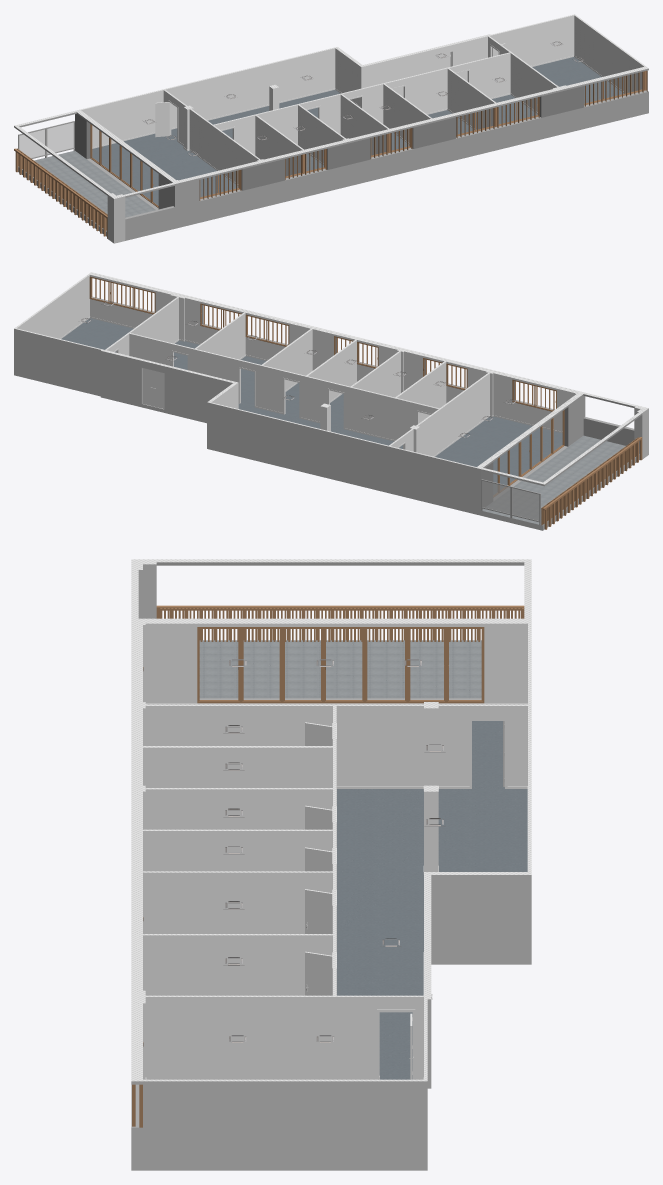
3 views of the same model, one above another, from view 1: azimuth 30°, elevation 25°; view 2: azimuth 150°, elevation 25°; view 3: azimuth 270°, elevation 25° (orthographic). The views are drawn at different scales.
Parts seen in each view (by area): view 1: masonry_02, masonry_11, section_face_01, masonry_04, ground_office_07, masonry_03, masonry_06, masonry_05, rail_double_01, ground_terrace_01, masonry_08, masonry_10 (+10 smaller); view 2: masonry_02, section_face_01, masonry_11, masonry_03, ground_office_07, ground_terrace_01, masonry_04, masonry_01, masonry_05, windows_01, masonry_07, grid_sur_01 (+13 smaller); view 3: masonry_02, masonry_01, ground_living_01, masonry_11, section_face_01, ground_terrace_01, masonry_06, masonry_05, masonry_09, masonry_07, masonry_08, masonry_10 (+7 smaller).
Part boxes in pixels (bbox=[...]): masonry_02: bbox=[14, 68, 648, 243]; masonry_11: bbox=[81, 48, 335, 184]; section_face_01: bbox=[14, 14, 648, 198]; masonry_04: bbox=[490, 15, 643, 92]; ground_office_07: bbox=[92, 133, 238, 205]; masonry_03: bbox=[335, 36, 509, 106]; masonry_06: bbox=[385, 68, 494, 129]; masonry_05: bbox=[449, 53, 556, 112]; rail_double_01: bbox=[199, 70, 647, 200]; ground_terrace_01: bbox=[18, 151, 155, 231]; masonry_08: bbox=[300, 94, 387, 155]; masonry_10: bbox=[214, 115, 302, 176]; masonry_02: bbox=[14, 296, 648, 530]; section_face_01: bbox=[14, 272, 648, 484]; masonry_11: bbox=[391, 373, 575, 456]; masonry_03: bbox=[107, 333, 328, 421]; ground_office_07: bbox=[435, 416, 562, 494]; ground_terrace_01: bbox=[482, 435, 639, 525]; masonry_04: bbox=[17, 275, 176, 338]; masonry_01: bbox=[320, 382, 433, 440]; masonry_05: bbox=[130, 297, 285, 359]; windows_01: bbox=[89, 276, 564, 496]; masonry_07: bbox=[263, 329, 374, 389]; grid_sur_01: bbox=[543, 437, 642, 529]; masonry_02: bbox=[131, 562, 531, 1170]; masonry_01: bbox=[145, 708, 438, 1077]; ground_living_01: bbox=[337, 787, 527, 954]; masonry_11: bbox=[143, 623, 527, 785]; section_face_01: bbox=[131, 559, 531, 1081]; ground_terrace_01: bbox=[199, 640, 481, 698]; masonry_06: bbox=[143, 872, 332, 933]; masonry_05: bbox=[143, 935, 332, 995]; masonry_09: bbox=[143, 747, 332, 787]; masonry_07: bbox=[143, 831, 332, 871]; masonry_08: bbox=[143, 789, 332, 829]; masonry_10: bbox=[143, 706, 332, 745].
Bounding box in the file's own units: 33.79 × 2.7 × 10.96.
Materials: 94 (78 with a texture image).
